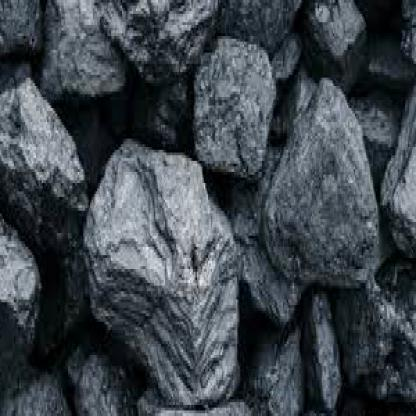Sedimentary_coal: (86, 122, 243, 394), (274, 66, 382, 283), (2, 58, 84, 255), (201, 34, 277, 178)
